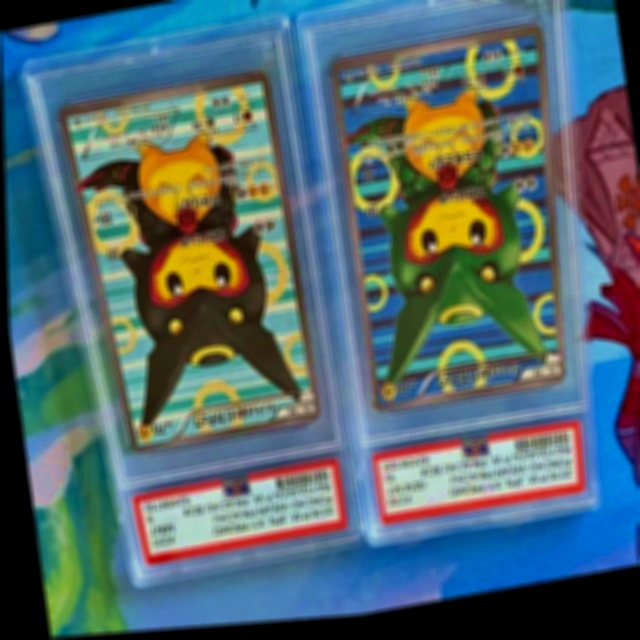card: (57, 73, 317, 455), (329, 31, 563, 419)
